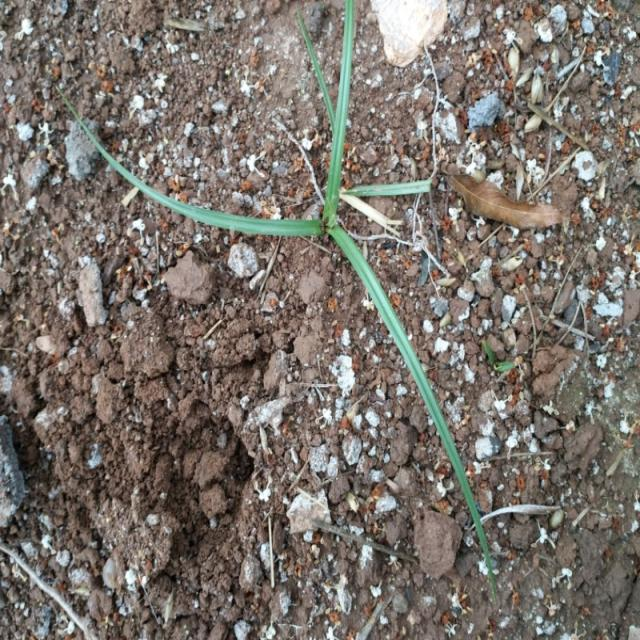sedge: (164, 5, 444, 497)
